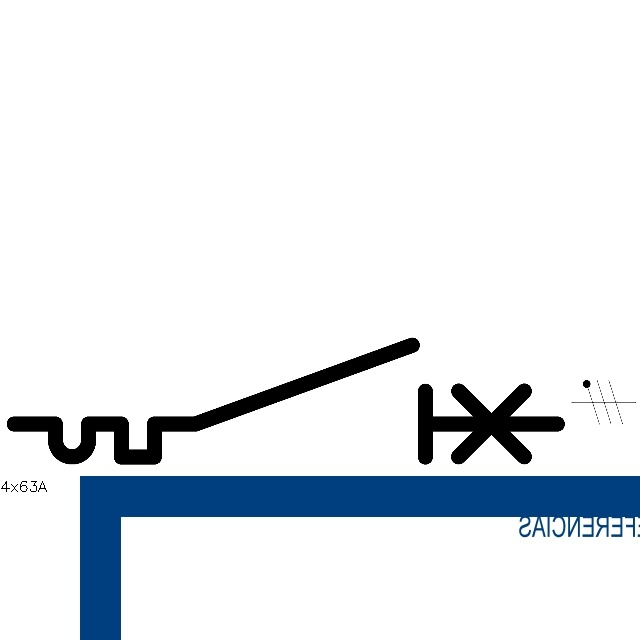interruptor_termomagnetico: (0, 331, 571, 471)
